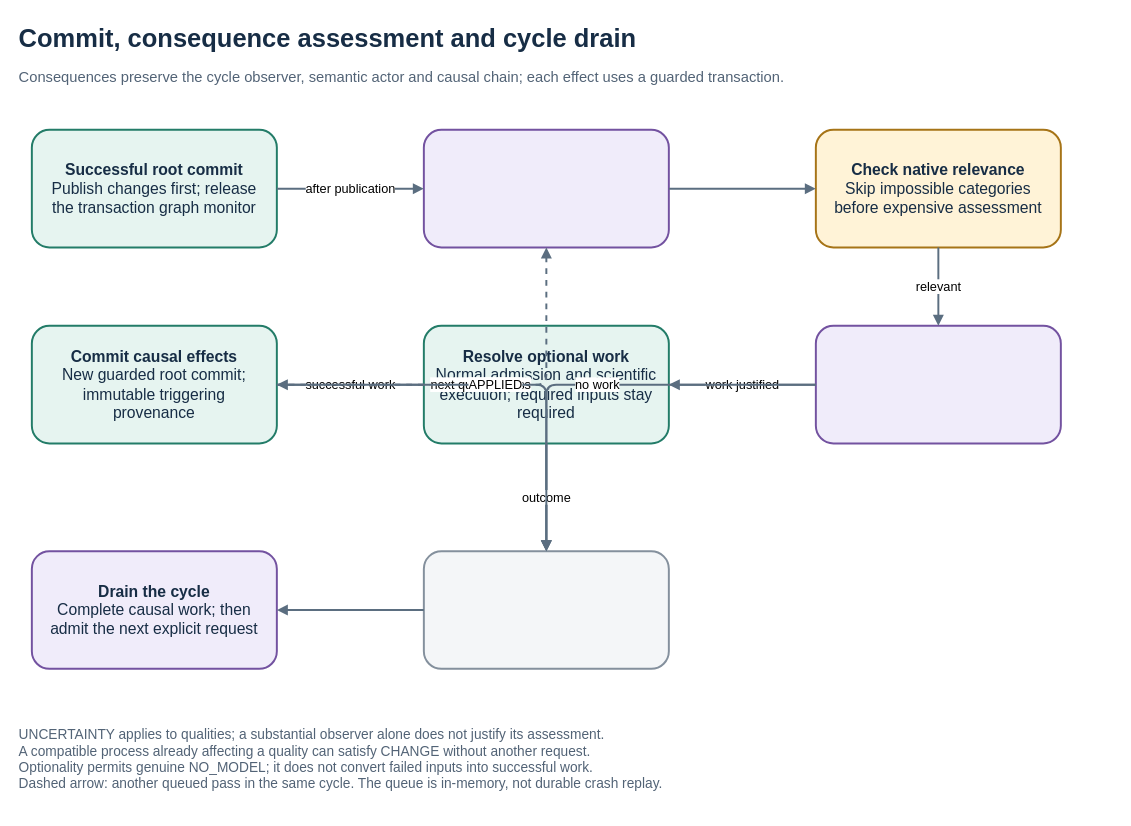
Image size: 1131x826. Some labels were removed from this diagram. Each missing label, with the centre of its shape:
"Assess the consequence Rules, native evidence, currentness, support and observer" belongs at pixel 937 384.
"Queue the commit Detached summary and cycle ownership; no recursive Java call" belongs at pixel 545 188.
"Record the decision APPLIED, NO_ACTION, DEFERRED or FAILED with evidence" belongs at pixel 545 609.
